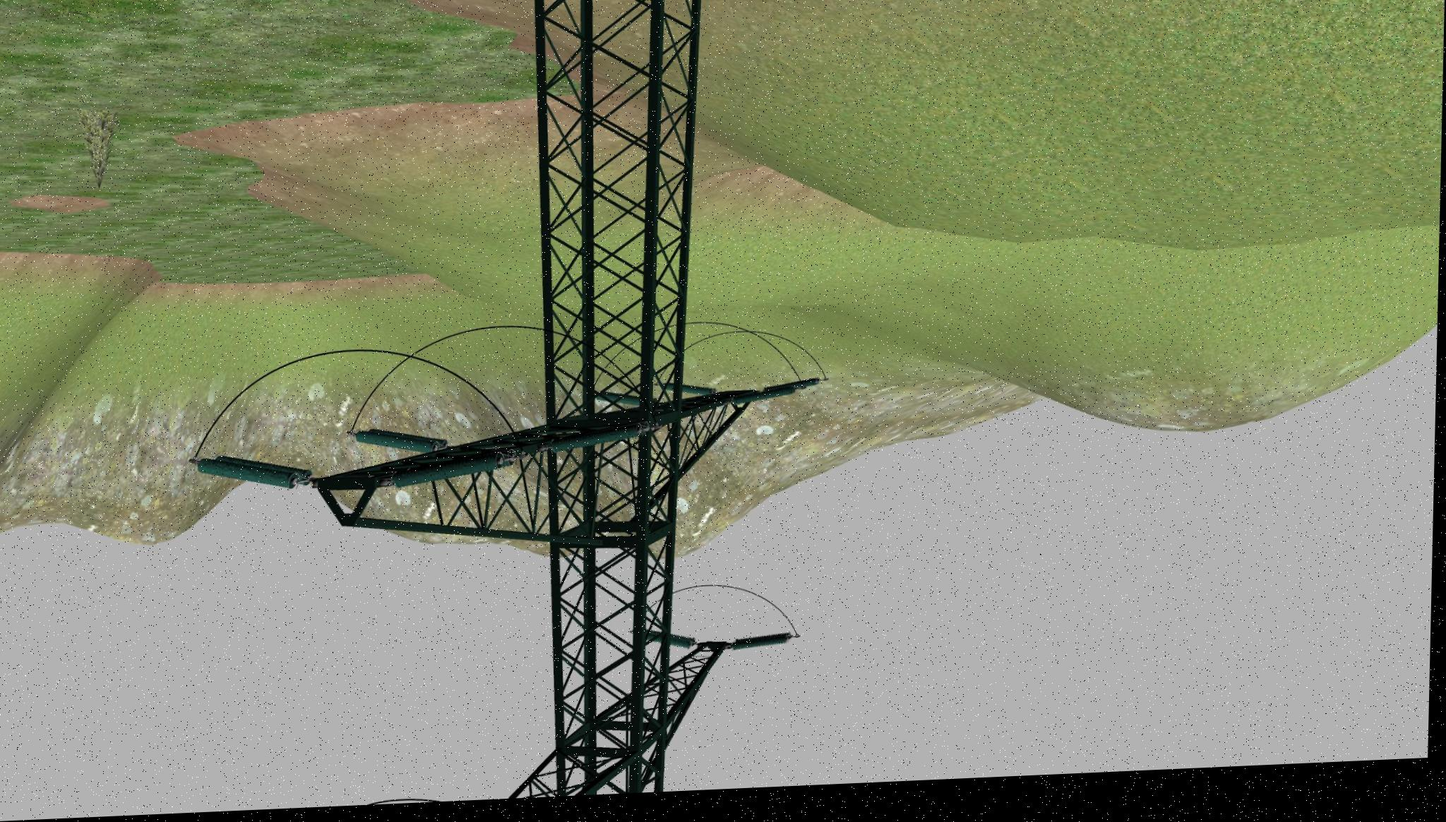tower: (330, 0, 769, 804)
